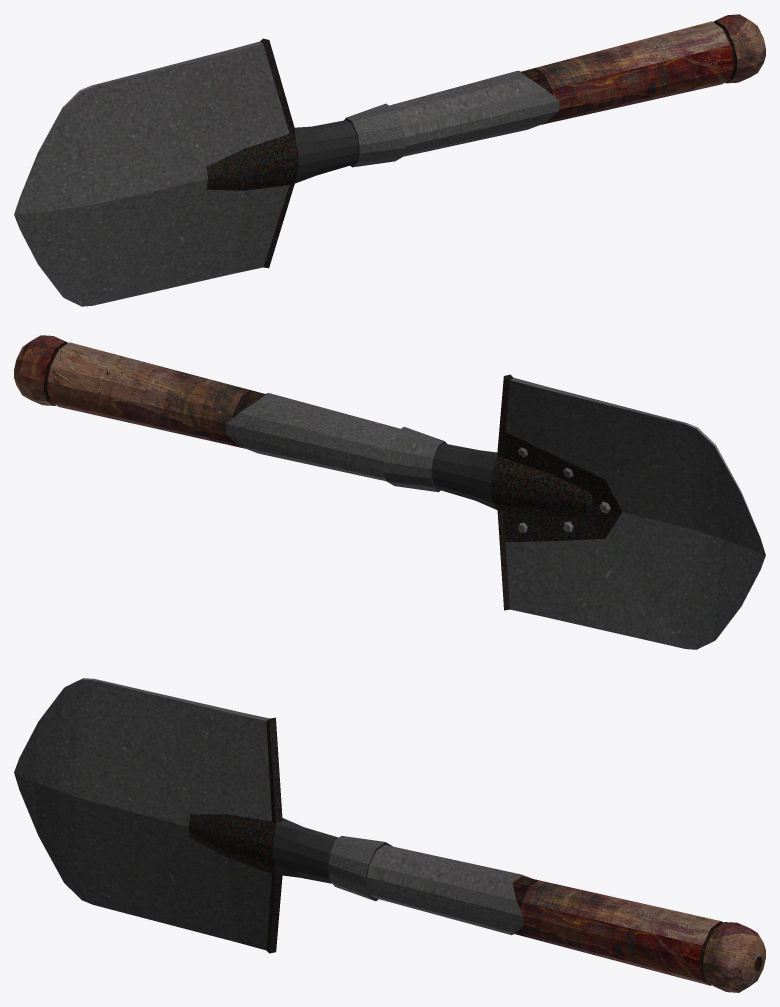
Rendered from TrenchShovel.fbx.
3 renders of one model, top to bottom at view 1: azimuth 30°, elevation 25°; view 2: azimuth 150°, elevation 25°; view 3: azimuth 330°, elevation 25°, orthographic. The views are drawn at different scales.
Parts seen in each view (by area): view 1: ZomboidTrenchShovel; view 2: ZomboidTrenchShovel; view 3: ZomboidTrenchShovel.
Part boxes in pixels (x1,y1,x2,y2): ZomboidTrenchShovel: (14,14,765,306); ZomboidTrenchShovel: (14,335,765,649); ZomboidTrenchShovel: (14,678,765,992).
Bounding box in the file's own units: 0.4194 × 0.1228 × 0.0342.
